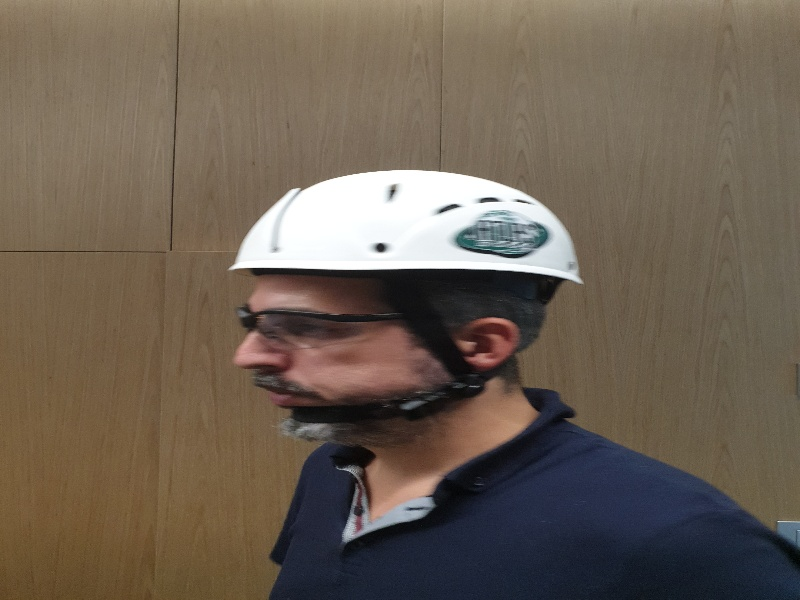Baret: (228, 169, 589, 288)
Gozluk: (236, 304, 409, 345)
